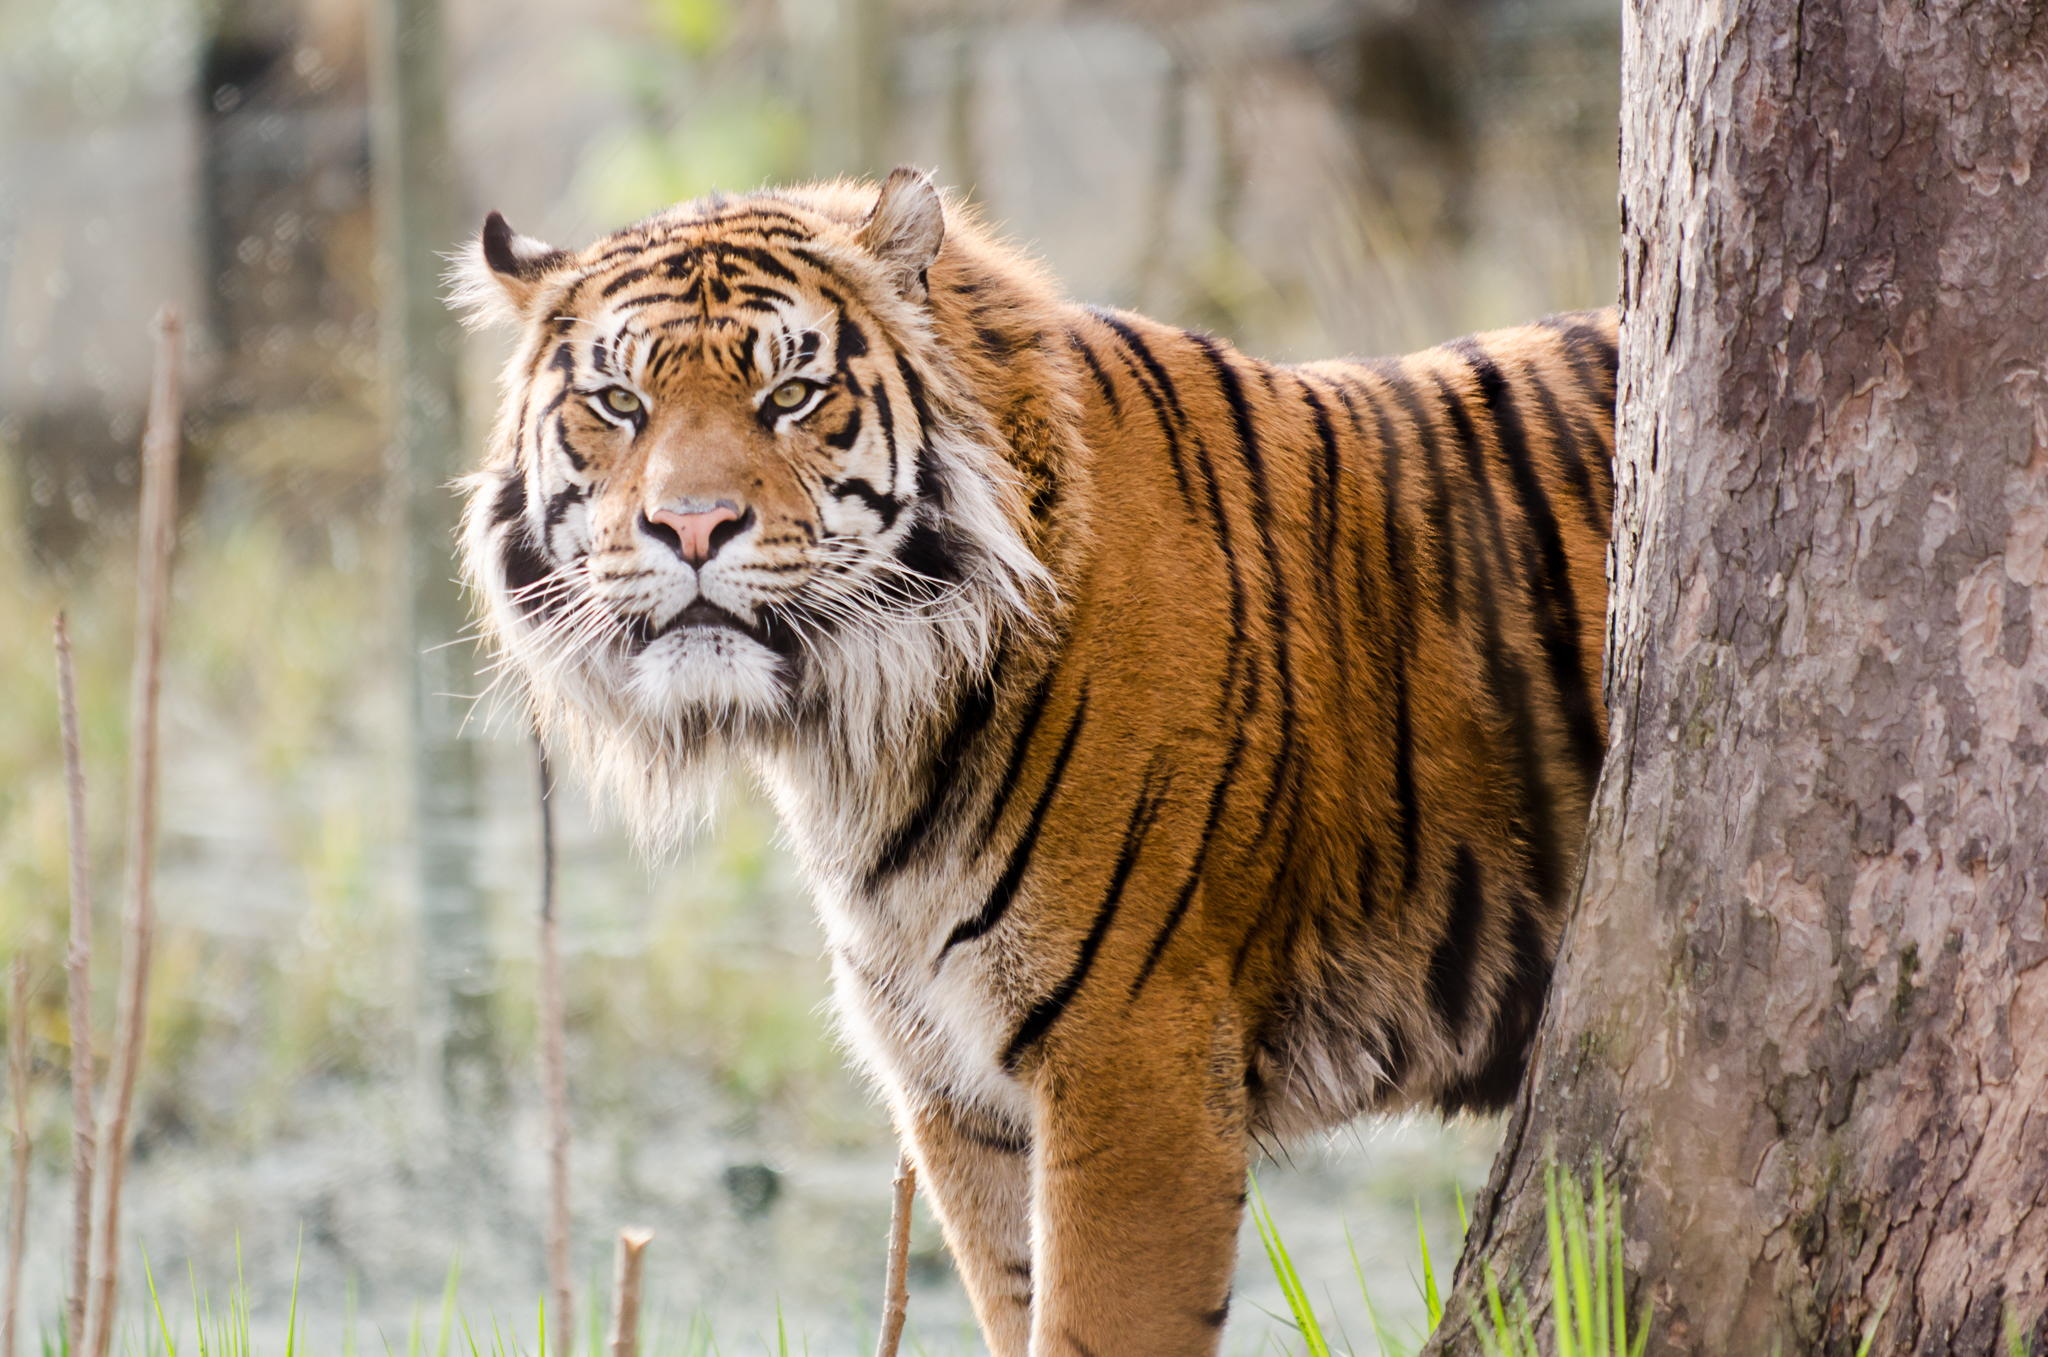tiger: (466, 164, 1766, 1222)
